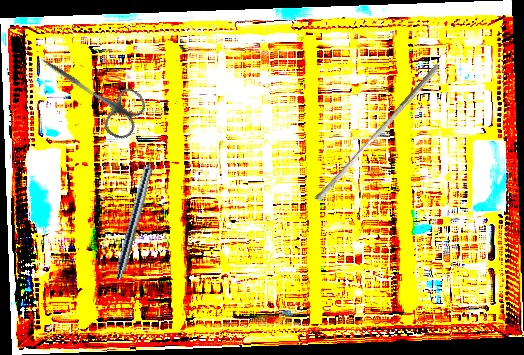Handpiece: (113, 143, 162, 282)
Iris Scissors: (27, 40, 152, 144)
Pusher: (314, 58, 441, 207)
